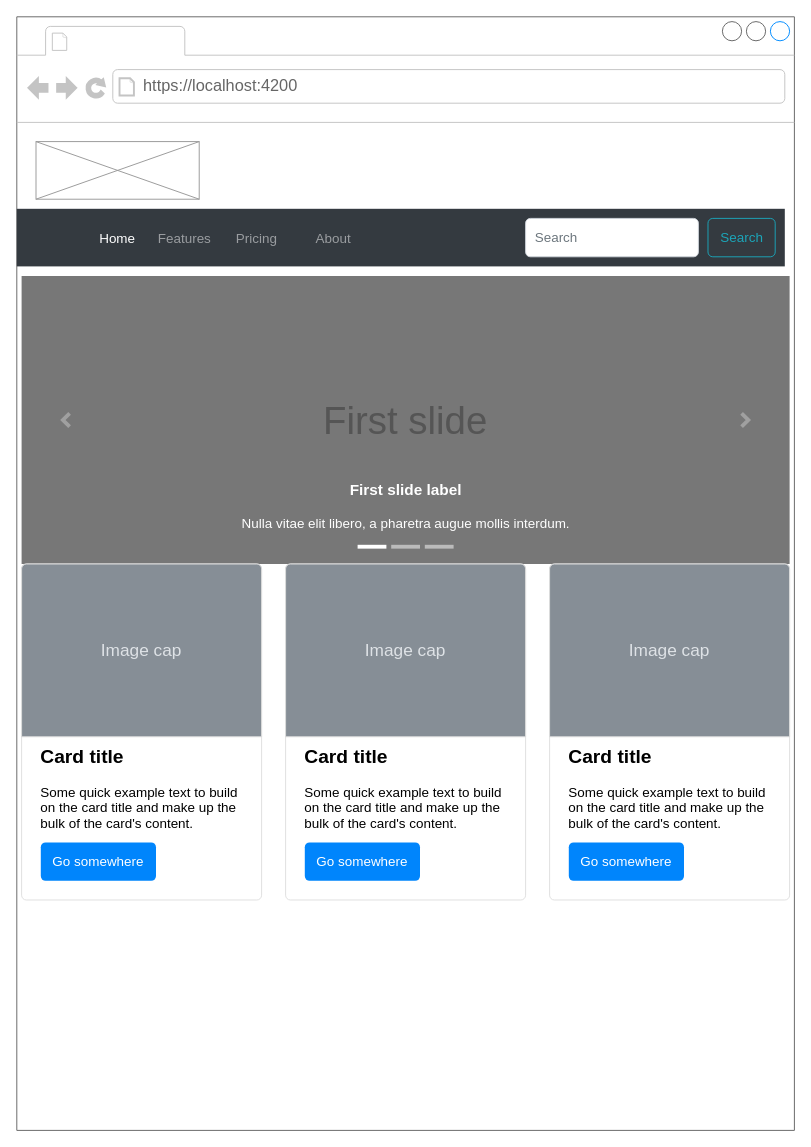
Some shapes in this 811 by 1147 pixel diagram are drawn without their labels. Each missing label, with the centre of its shape:
Home | PetS: point 126,40
Navbar: point 400,237
